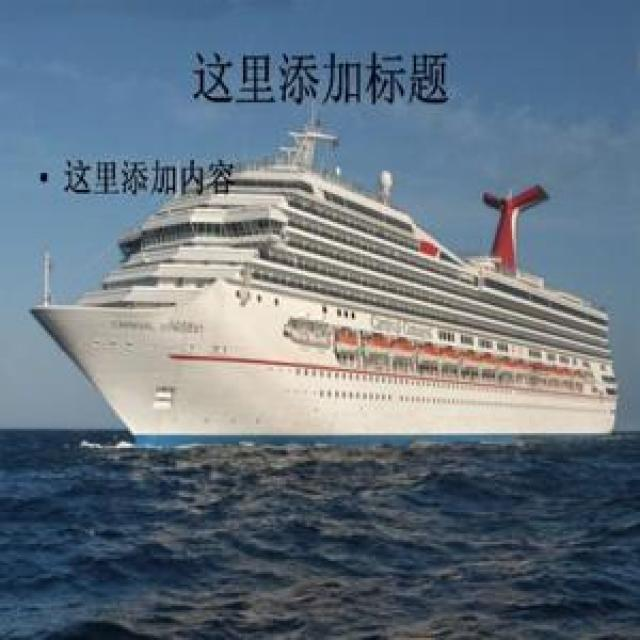passenger ship: (34, 123, 620, 436)
